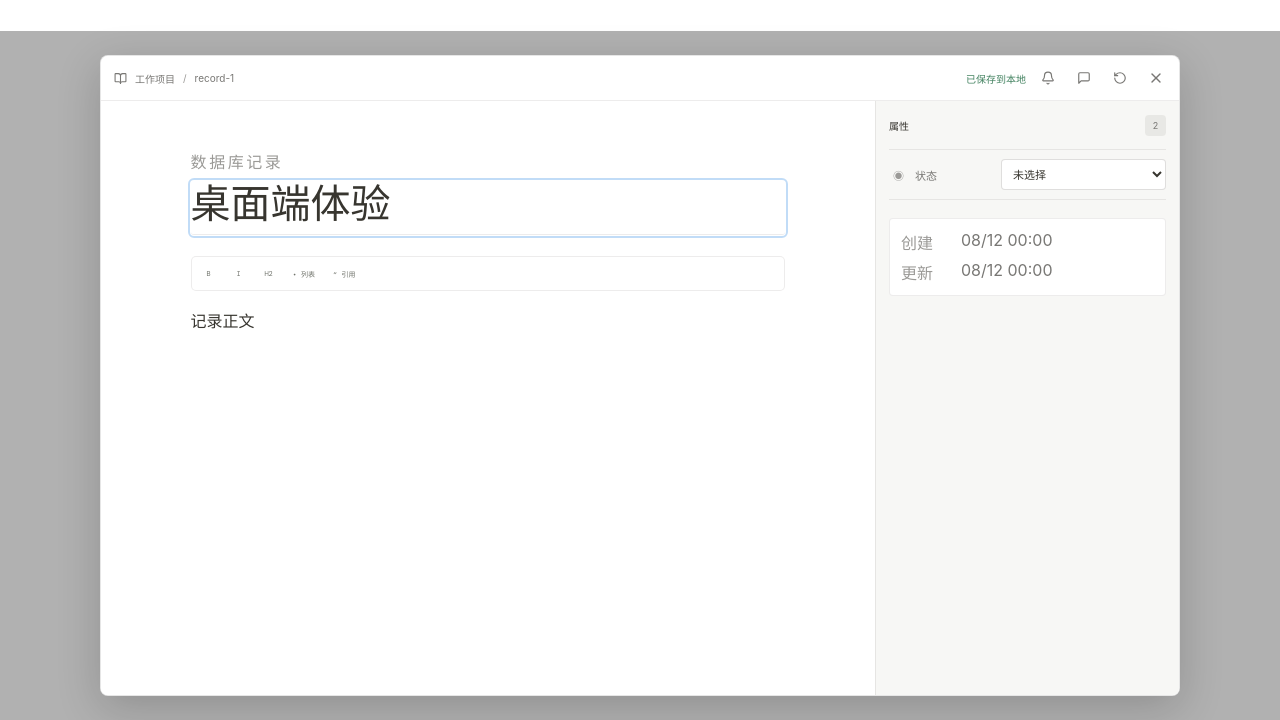
Scenario: database prototype views › keeps record details page-like and accessible
The width and height of the screenshot is (1280, 720).
Expected: the text "数据库记录" is shown, [191,152,283,172]
Expected: the field named "记录标题" holds "桌面端体验", [191,181,785,235]
Click the button named "记录讨论" at (1084, 78), box [1070,64,1098,92]
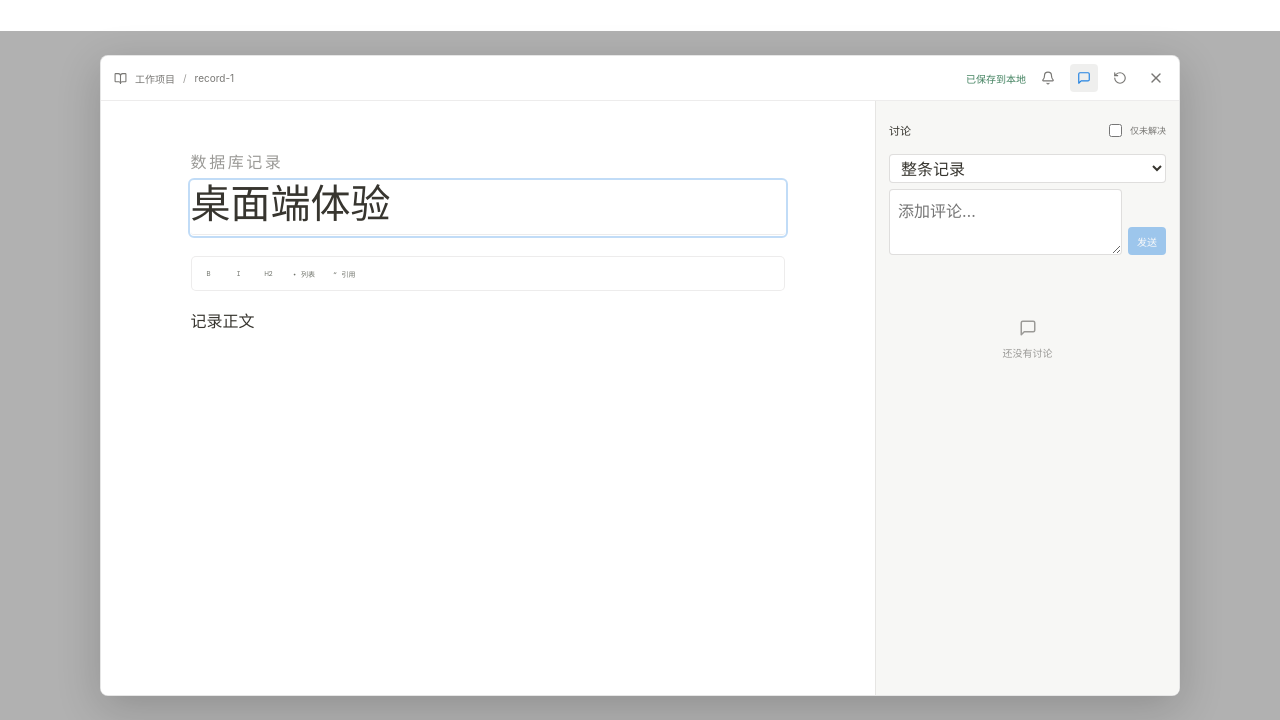
Expected: the text "还没有讨论" is shown, [1002,345,1052,360]
